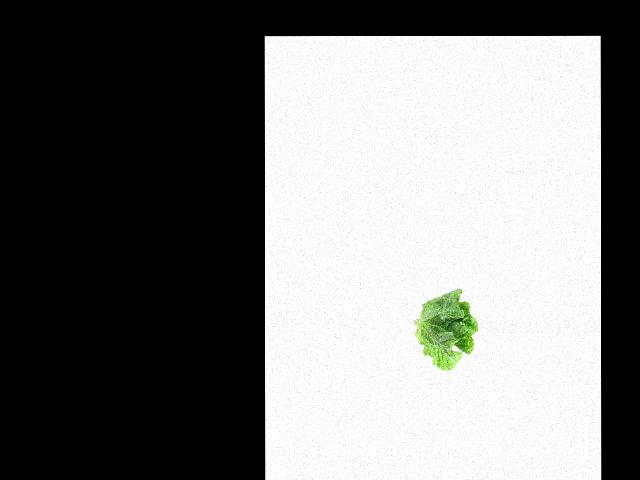lettuce: (416, 287, 477, 369)
